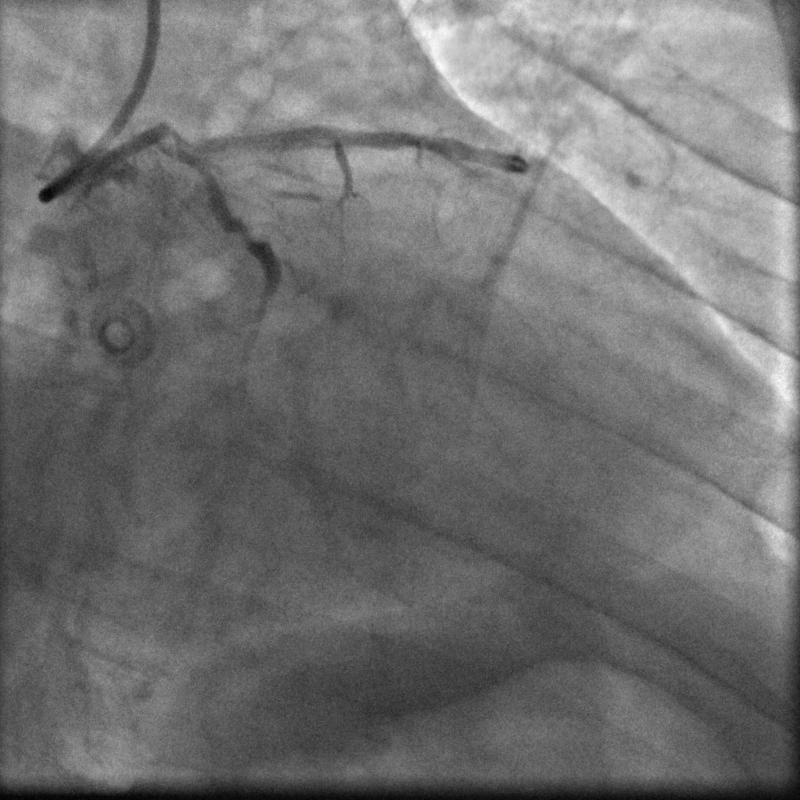Stenosis: (238, 222, 257, 245)
